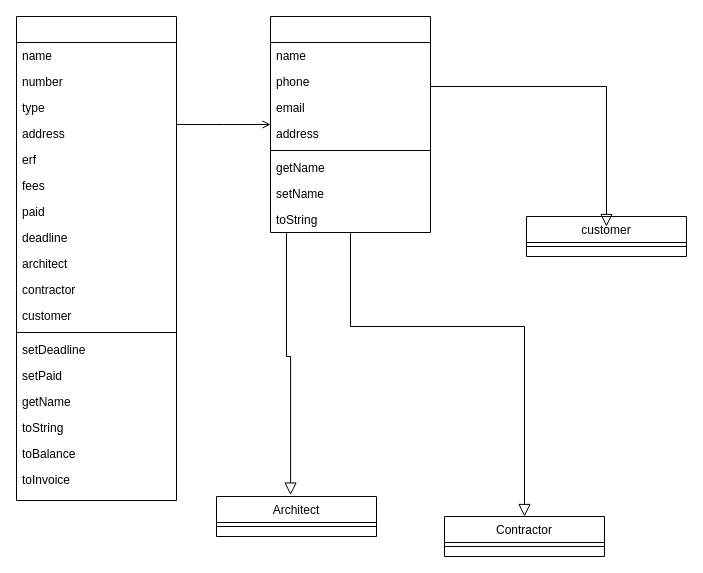
The diagram is 703 pixels wide and 573 high, and some of its shapes have lost their labels. Each missing label, with the box of its shape:
Person: (270, 16, 430, 232)
Project: (16, 16, 176, 500)
